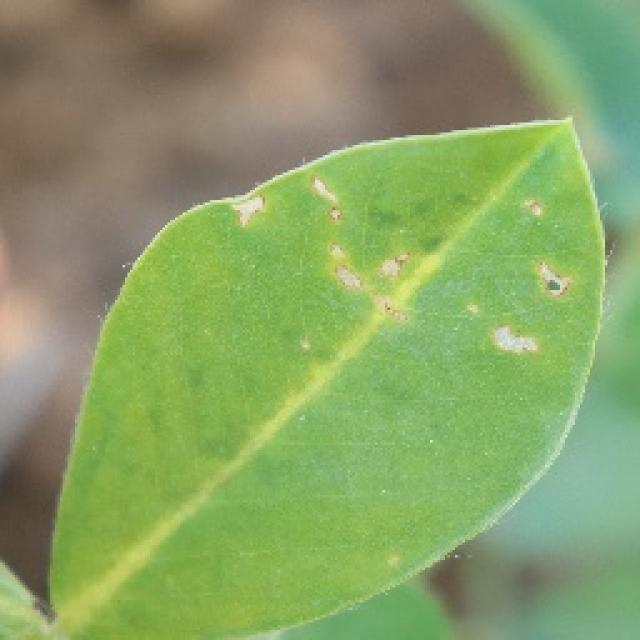Yellow_and_black_sigatoka: (56, 118, 602, 640)
